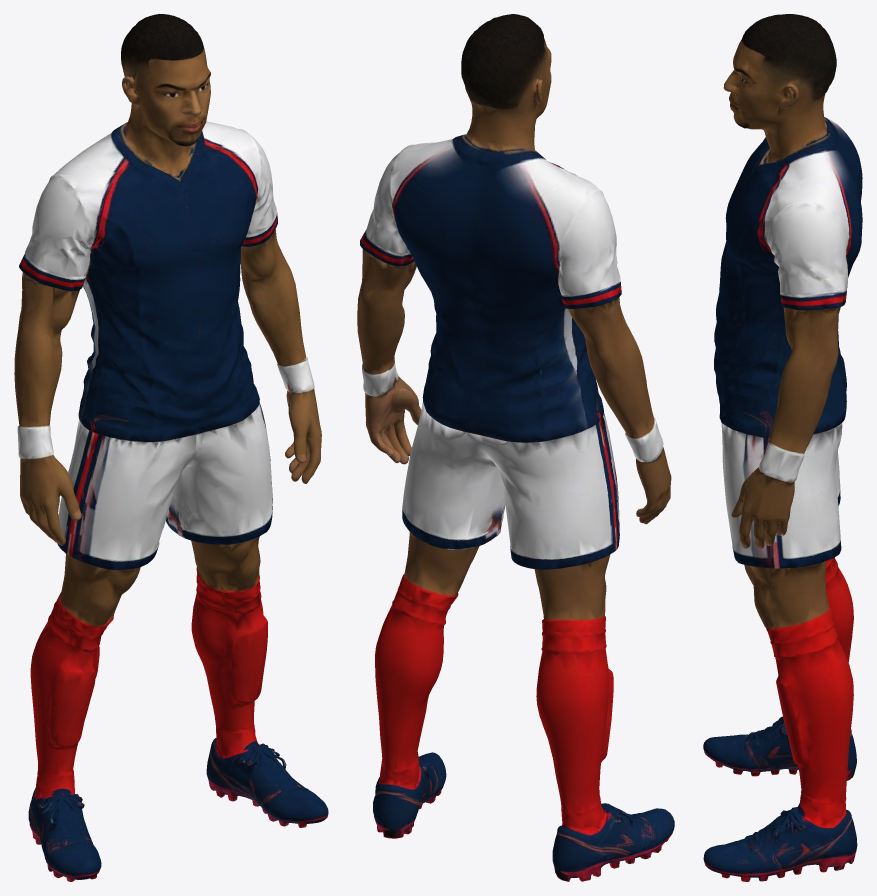
The model's file is rocket.glb.
3 renders of one model, left to right at view 1: azimuth 30°, elevation 25°; view 2: azimuth 150°, elevation 25°; view 3: azimuth 270°, elevation 25°, orthographic.
Parts seen in each view (by area): view 1: mesh_node; view 2: mesh_node; view 3: mesh_node.
Part boxes in pixels (left/top/right/bottom): mesh_node: left=14, top=14, right=328, bottom=881; mesh_node: left=357, top=14, right=674, bottom=881; mesh_node: left=703, top=14, right=862, bottom=881.
Bounding box in the file's own units: 0.7154 × 1.9 × 0.3412.
Materials: 1 (1 with a texture image).
